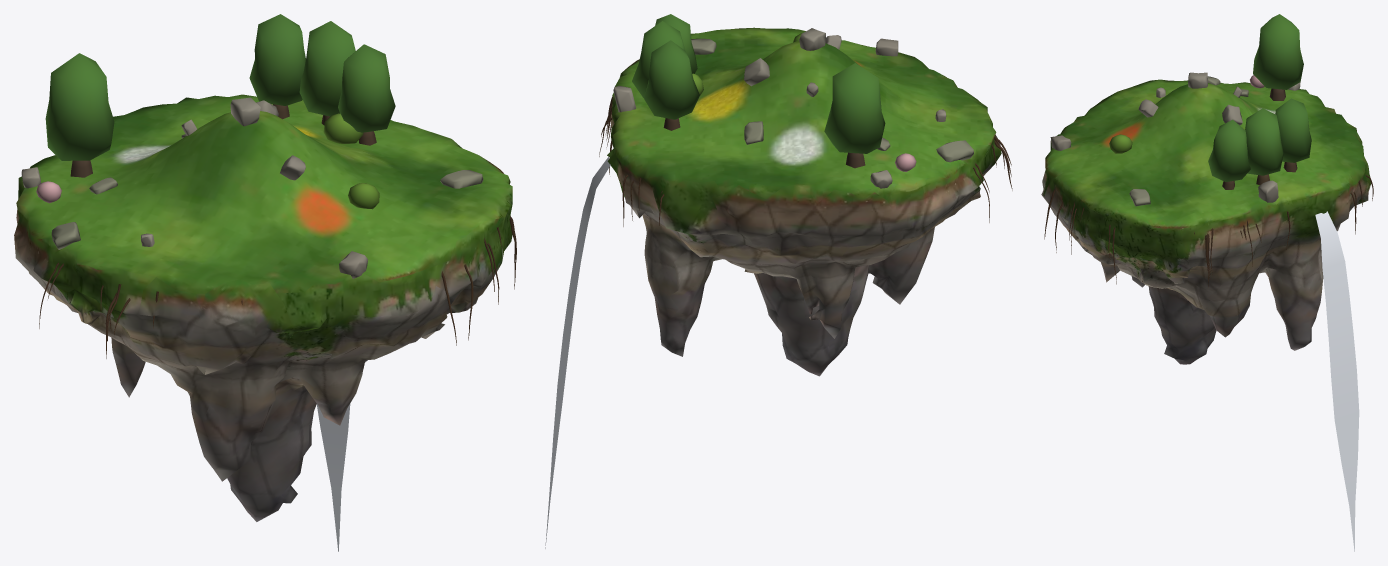
File: island-hill-lod1.glb
3 renders of one model, left to right at view 1: azimuth 30°, elevation 25°; view 2: azimuth 150°, elevation 25°; view 3: azimuth 270°, elevation 25°, orthographic. The views are drawn at different scales.
Visible parts, largest first — view 1: Terrain, Detail; view 2: Terrain, Detail; view 3: Terrain, Detail.
Part boxes in pixels (x1=…): Terrain: x1=14, y1=94, x2=512, y2=521; Detail: x1=21, y1=14, x2=516, y2=551; Terrain: x1=607, y1=27, x2=1001, y2=376; Detail: x1=545, y1=14, x2=1012, y2=548; Terrain: x1=1041, y1=79, x2=1371, y2=364; Detail: x1=1044, y1=14, x2=1373, y2=551.
Bounding box in the file's own units: 32.81 × 43.34 × 30.29.
2 materials, 1 textured.
